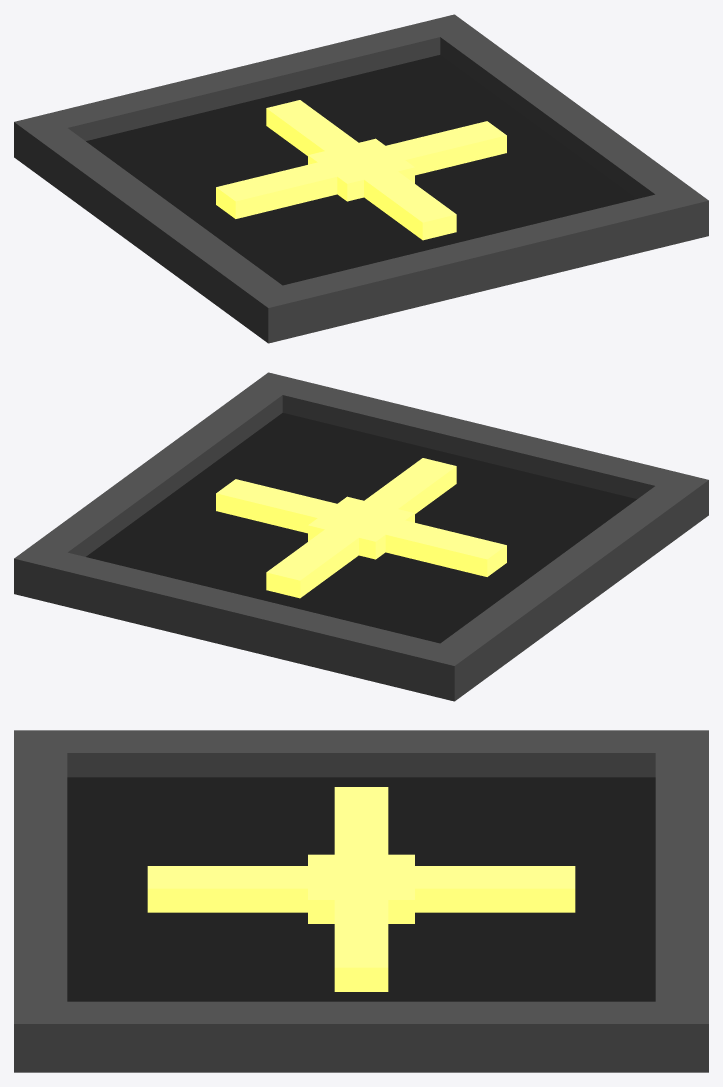
File: trap_LARGE_DOT_YELLOW.glb
3 views of the same model, one above another, from view 1: azimuth 30°, elevation 25°; view 2: azimuth 150°, elevation 25°; view 3: azimuth 270°, elevation 25° (orthographic). The views are drawn at different scales.
Parts seen in each view (by area): view 1: item_TRAP_LARGE_DOT_YELLOW; view 2: item_TRAP_LARGE_DOT_YELLOW; view 3: item_TRAP_LARGE_DOT_YELLOW.
Boxes of the visible parts, left/top/right/bottom form: item_TRAP_LARGE_DOT_YELLOW: left=14, top=14, right=708, bottom=343; item_TRAP_LARGE_DOT_YELLOW: left=14, top=372, right=708, bottom=701; item_TRAP_LARGE_DOT_YELLOW: left=14, top=730, right=708, bottom=1072.
Size of the model in its own units: 0.5909 by 0.0455 by 0.5909.
1 material, 1 textured.
